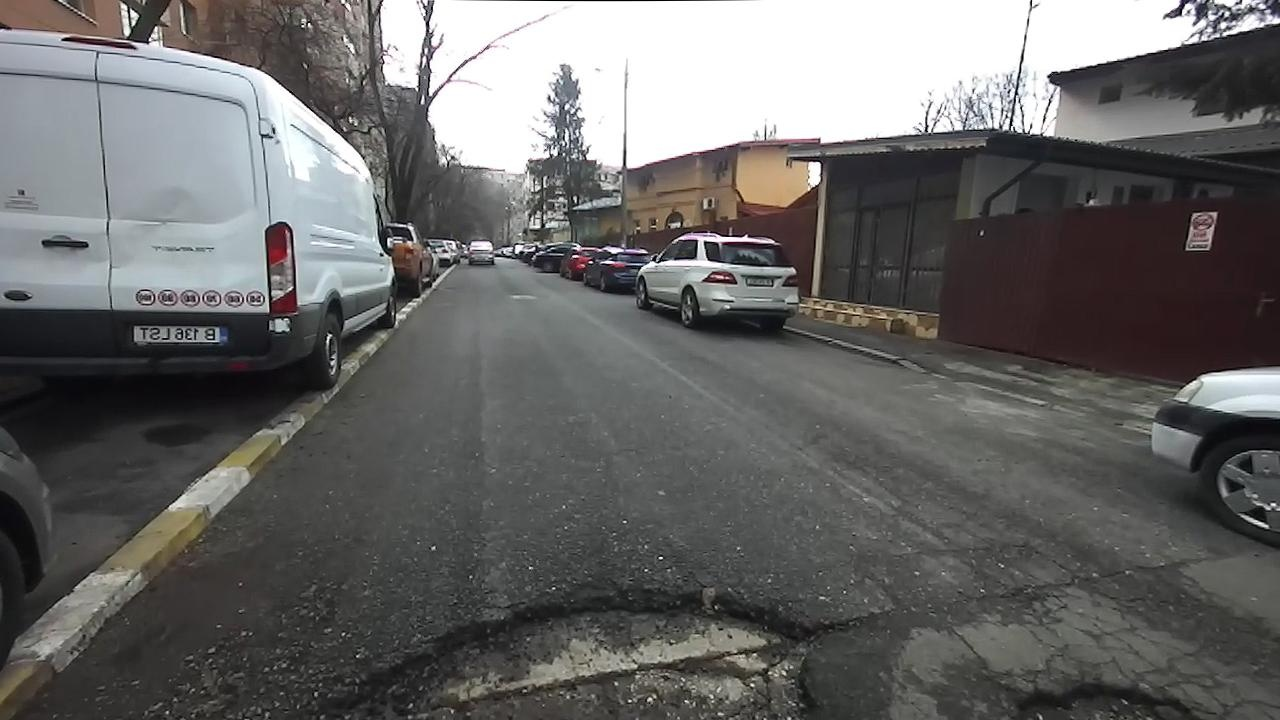pothole: (290, 570, 842, 719), (983, 678, 1202, 719)
